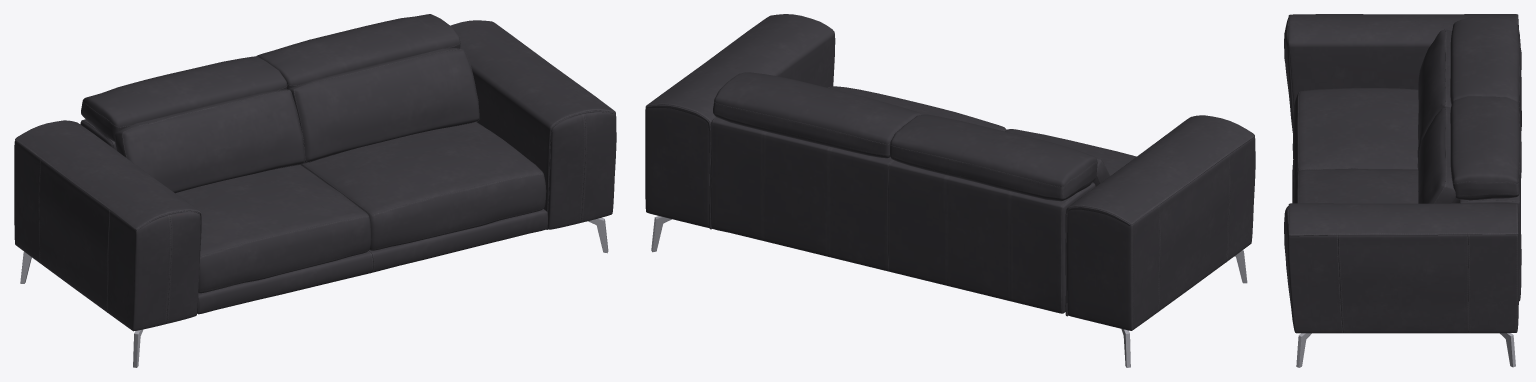
Rendered from sofa_B07HPTFMMR.glb.
3 renders of one model, left to right at view 1: azimuth 30°, elevation 25°; view 2: azimuth 150°, elevation 25°; view 3: azimuth 270°, elevation 25°, orthographic. The views are drawn at different scales.
Parts seen in each view (by area): view 1: RootNode; view 2: RootNode; view 3: RootNode.
Boxes of the visible parts, x1,y1,x2,y2 form: RootNode: (14,14,616,367); RootNode: (645,14,1255,367); RootNode: (1284,14,1521,367).
Bounding box in the file's own units: 2.33 × 0.8139 × 1.05.
1 material, 1 textured.
